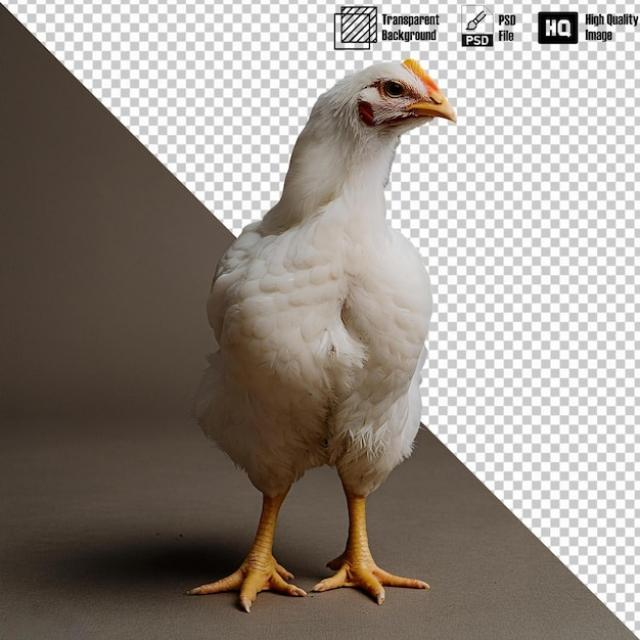Chicken: (182, 54, 459, 611)
